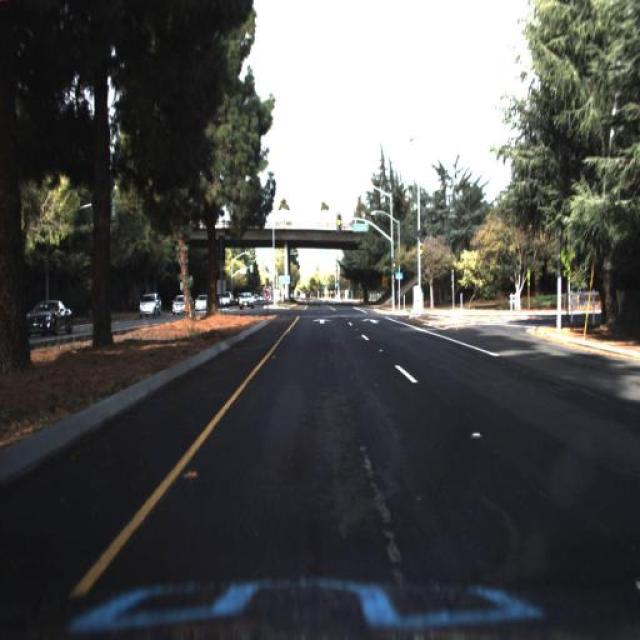car: (27, 301, 74, 338), (136, 288, 165, 320), (132, 289, 159, 319), (215, 290, 236, 314), (171, 292, 190, 317), (234, 290, 254, 310), (195, 295, 207, 313)
trafficLight-YellowLeft: (335, 213, 343, 244), (390, 254, 398, 278), (419, 240, 426, 265)
